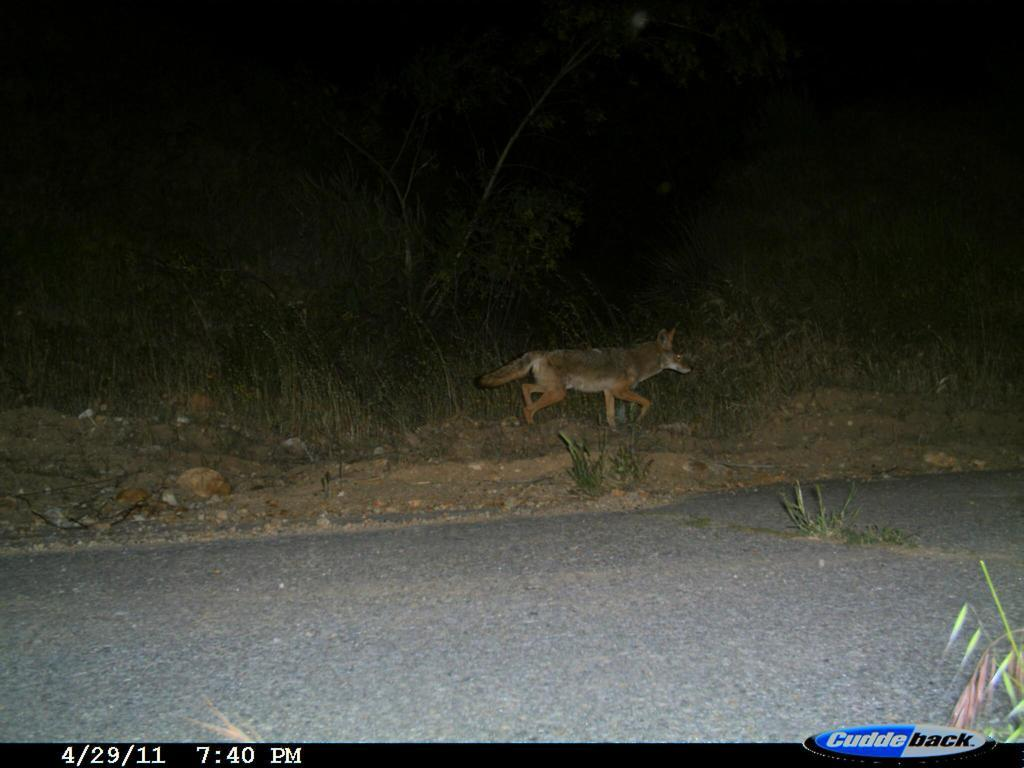coyote: (468, 323, 699, 434)
